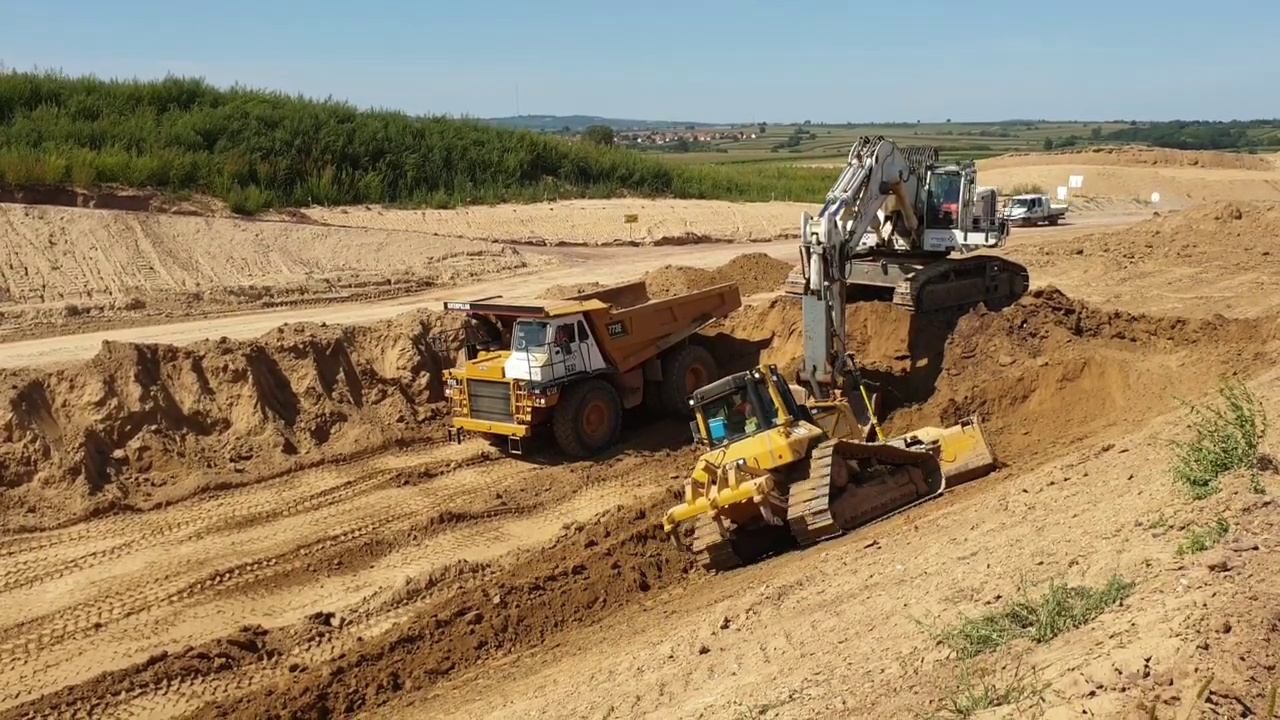bulldozer: (660, 348, 1009, 578)
excavator: (764, 130, 1028, 465)
truck: (440, 276, 752, 469), (1001, 189, 1068, 230)
